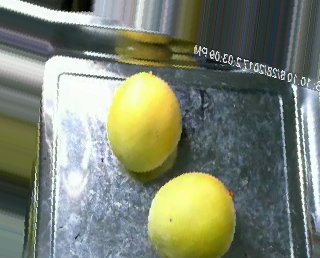Mango: (140, 161, 239, 256), (105, 71, 188, 172)
